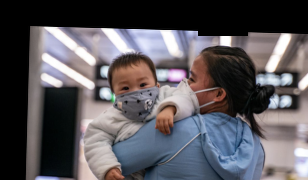with_mask: (113, 75, 160, 122), (175, 68, 201, 116)
